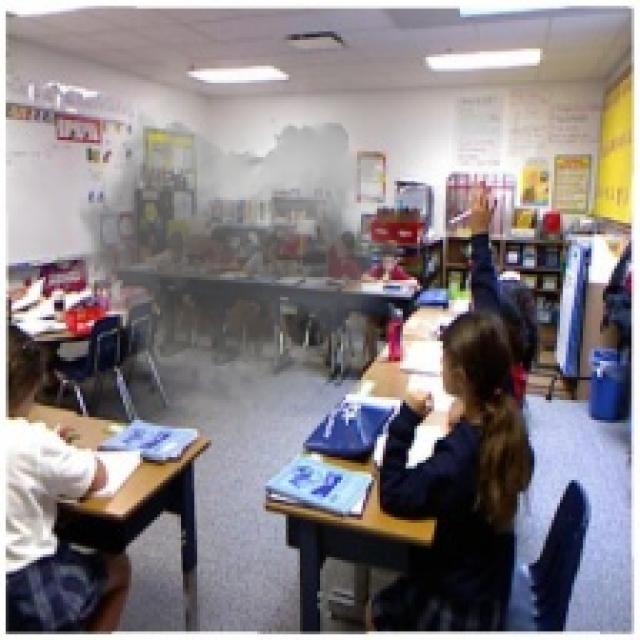smoke: (51, 43, 403, 428)
